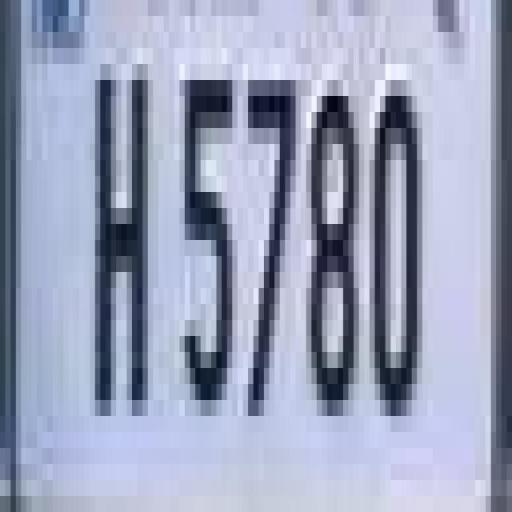number plate: (10, 16, 512, 512)
